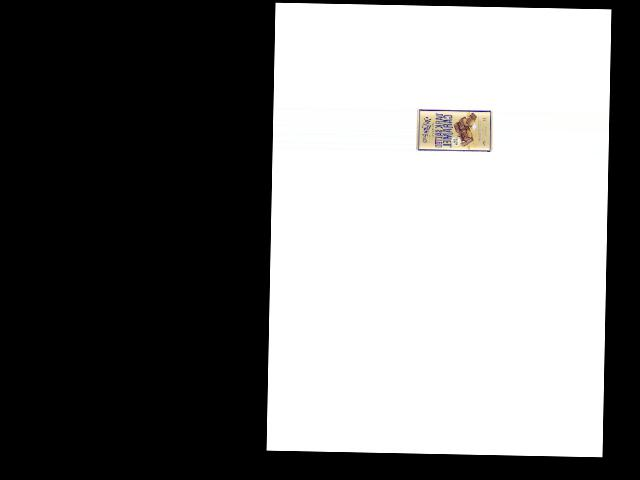chocolate: (416, 107, 494, 155)
